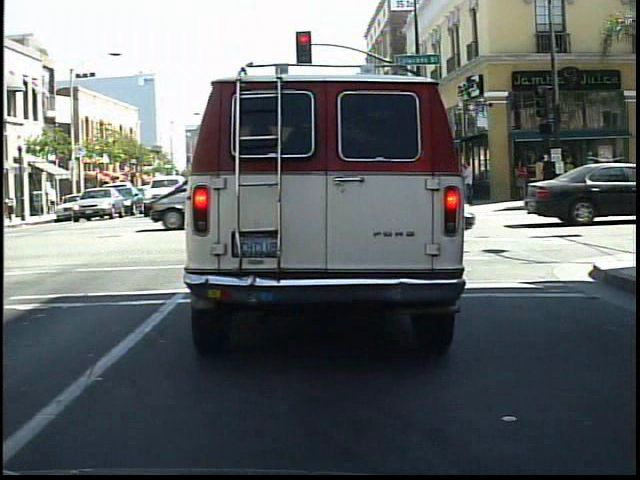person: (538, 153, 561, 207), (511, 157, 534, 204)
